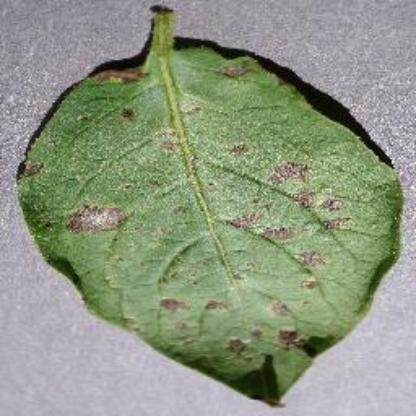Early-Blight: (17, 0, 406, 408)
